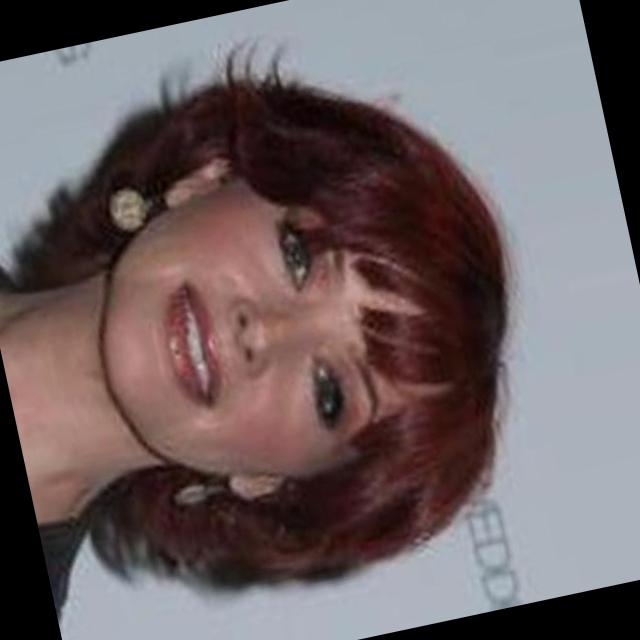bareface: (80, 150, 437, 514)
